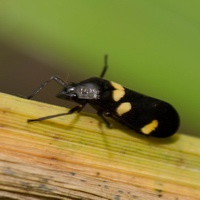insect: (27, 55, 179, 136)
